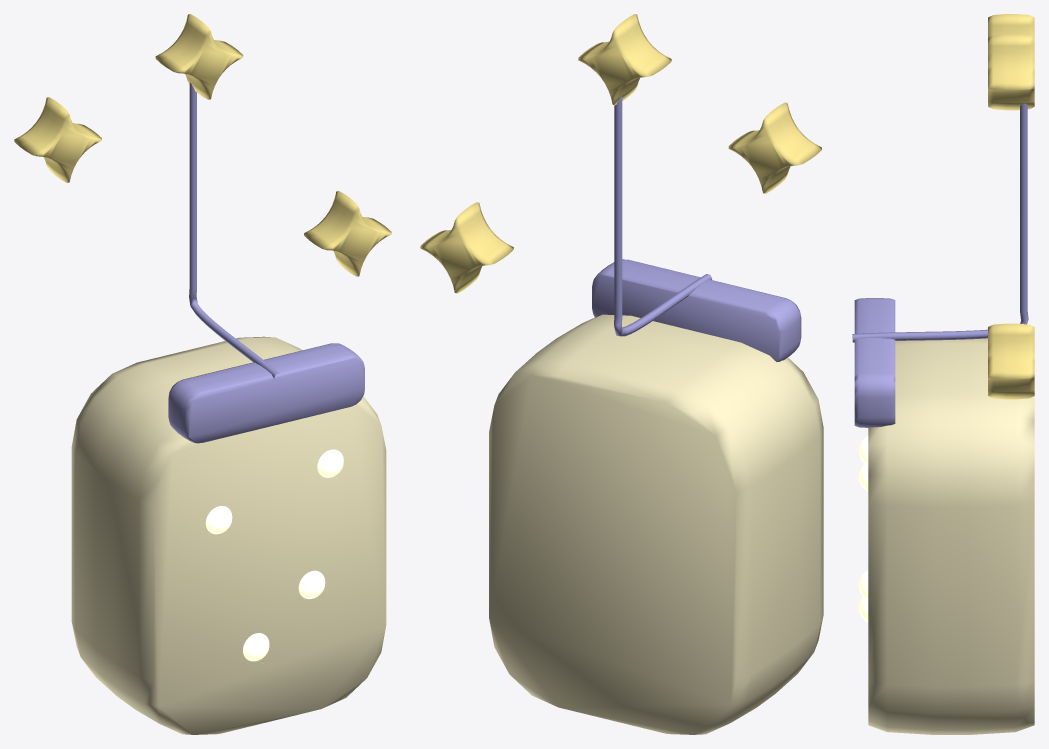
File: decor_3_star.glb
The picture shows the model from 3 angles, left to right: view 1: azimuth 30°, elevation 25°; view 2: azimuth 150°, elevation 25°; view 3: azimuth 270°, elevation 25°; orthographic projection. The views are drawn at different scales.
Parts seen in each view (by area): view 1: decor_3_star; view 2: decor_3_star; view 3: decor_3_star.
Part boxes in pixels (box(x1,y1,x2,y2)): decor_3_star: box(14, 14, 391, 734); decor_3_star: box(420, 14, 823, 734); decor_3_star: box(852, 14, 1034, 734).
Size of the model in its own units: 7.77 by 13.54 by 3.36.
